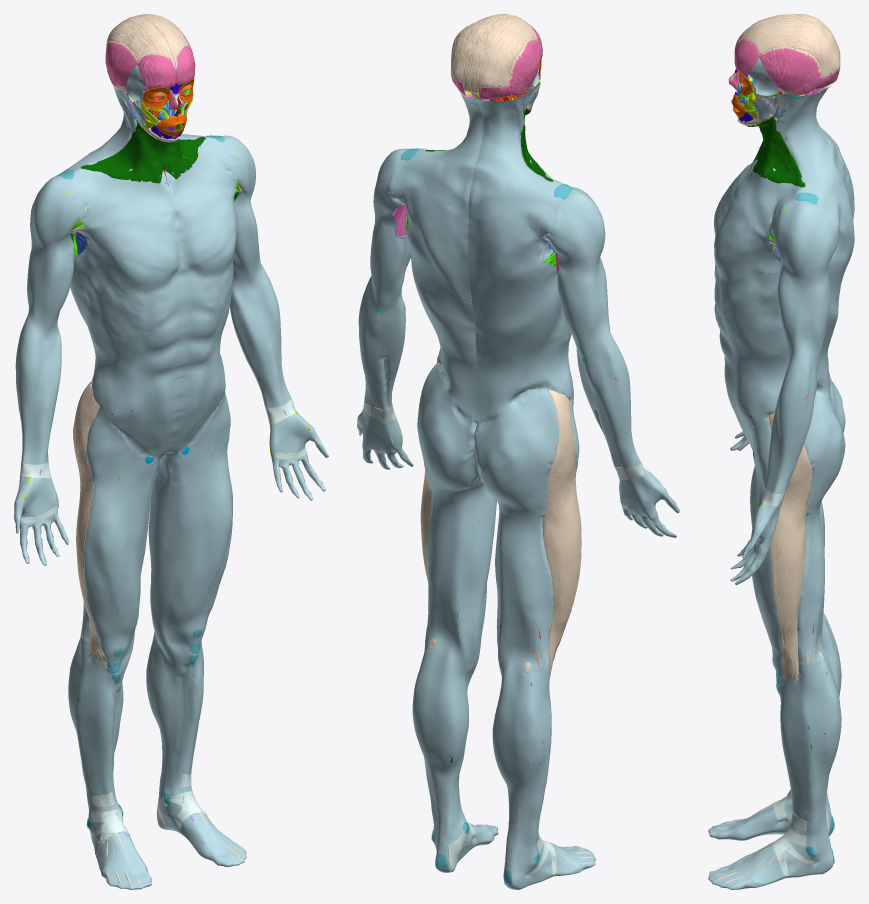
Rendered from muscular-system.glb.
3 views of the same model, side by side, from view 1: azimuth 30°, elevation 25°; view 2: azimuth 150°, elevation 25°; view 3: azimuth 270°, elevation 25° (orthographic). The views are drawn at different scales.
Parts seen in each view (by area): view 1: Investing abdominal fascia.r, Fascia lata.l, Fascia lata.r, Crural fascia.l, Crural fascia.r, Pectoral fascia.r, Investing abdominal fascia.l, Pectoral fascia.l, Antebrachial fascia.r, Antebrachial fascia.l, Deltoid fascia.r, Brachial fascia.r (+13 smaller); view 2: Investing abdominal fascia.r, Fascia lata.r, Fascia lata.l, Crural fascia.r, Investing abdominal fascia.l, Crural fascia.l, Superficial investing cervical fascia.r, Iliotibial tract.r, Antebrachial fascia.r, Antebrachial fascia.l, Deltoid fascia.r, Superficial investing cervical fascia.l (+11 smaller); view 3: Investing abdominal fascia.l, Crural fascia.l, Fascia lata.l, Iliotibial tract.l, Deltoid fascia.l, Pectoral fascia.l, Superficial investing cervical fascia.l, Antebrachial fascia.l, Brachial fascia.l, Epicranial aponeurosis.l, Crural fascia.r, Temporoparietalis muscle.l (+13 smaller).
Boxes of the visible parts, bbox=[...] form: Investing abdominal fascia.r: bbox=[70, 239, 184, 457]; Fascia lata.l: bbox=[148, 392, 232, 638]; Fascia lata.r: bbox=[73, 388, 165, 658]; Crural fascia.l: bbox=[146, 622, 246, 866]; Crural fascia.r: bbox=[68, 638, 151, 889]; Pectoral fascia.r: bbox=[78, 178, 182, 294]; Investing abdominal fascia.l: bbox=[167, 263, 233, 452]; Pectoral fascia.l: bbox=[167, 158, 237, 274]; Antebrachial fascia.r: bbox=[15, 315, 61, 464]; Antebrachial fascia.l: bbox=[230, 263, 291, 408]; Deltoid fascia.r: bbox=[30, 169, 113, 257]; Brachial fascia.r: bbox=[27, 232, 74, 329]; Investing abdominal fascia.r: bbox=[467, 207, 573, 426]; Fascia lata.r: bbox=[474, 389, 581, 677]; Fascia lata.l: bbox=[417, 364, 496, 657]; Crural fascia.r: bbox=[492, 666, 595, 889]; Investing abdominal fascia.l: bbox=[401, 177, 476, 424]; Crural fascia.l: bbox=[412, 648, 498, 872]; Superficial investing cervical fascia.r: bbox=[468, 86, 570, 216]; Iliotibial tract.r: bbox=[542, 390, 581, 676]; Antebrachial fascia.r: bbox=[575, 330, 641, 468]; Antebrachial fascia.l: bbox=[358, 276, 405, 409]; Deltoid fascia.r: bbox=[521, 173, 605, 274]; Superficial investing cervical fascia.l: bbox=[399, 91, 483, 208]; Investing abdominal fascia.l: bbox=[714, 195, 854, 448]; Crural fascia.l: bbox=[708, 657, 841, 889]; Fascia lata.l: bbox=[751, 389, 845, 674]; Iliotibial tract.l: bbox=[768, 412, 812, 682]; Deltoid fascia.l: bbox=[771, 183, 843, 288]; Pectoral fascia.l: bbox=[714, 171, 776, 285]; Superficial investing cervical fascia.l: bbox=[752, 84, 848, 205]; Antebrachial fascia.l: bbox=[764, 348, 820, 493]; Brachial fascia.l: bbox=[777, 261, 829, 357]; Epicranial aponeurosis.l: bbox=[738, 18, 840, 77]; Crural fascia.r: bbox=[708, 618, 841, 840]; Temporoparietalis muscle.l: bbox=[759, 46, 821, 96].
Size of the model in its own units: 0.6708 by 1.7 by 0.2685.
